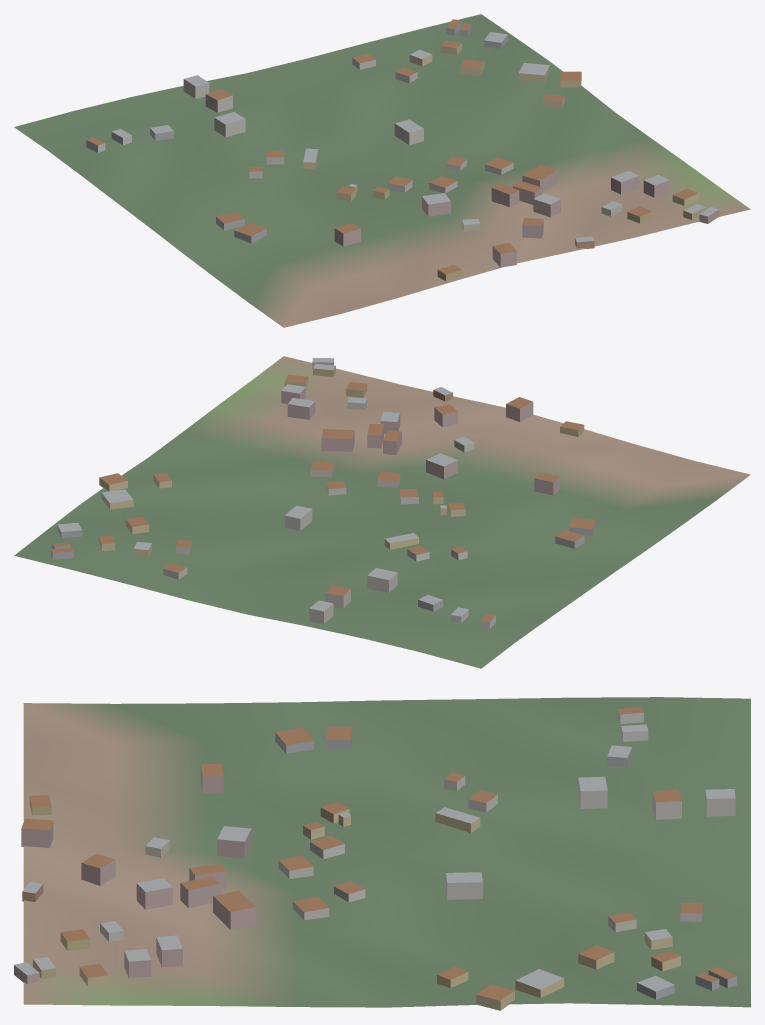
The picture shows the model from 3 angles, top to bottom: view 1: azimuth 30°, elevation 25°; view 2: azimuth 150°, elevation 25°; view 3: azimuth 270°, elevation 25°; orthographic projection. The views are drawn at different scales.
Parts seen in each view (by area): view 1: Lo; view 2: Lo; view 3: Lo.
Part boxes in pixels (x1=…): Lo: x1=14, y1=14, x2=750, y2=327; Lo: x1=14, y1=356, x2=750, y2=668; Lo: x1=14, y1=697, x2=750, y2=1010.
Size of the model in its own units: 260 by 11.68 by 259.
